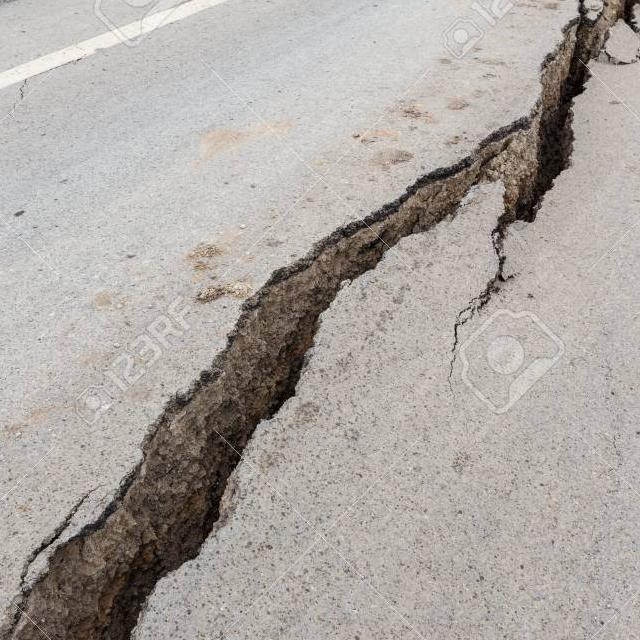retak_memanjang: (0, 175, 388, 640), (366, 0, 640, 327)
